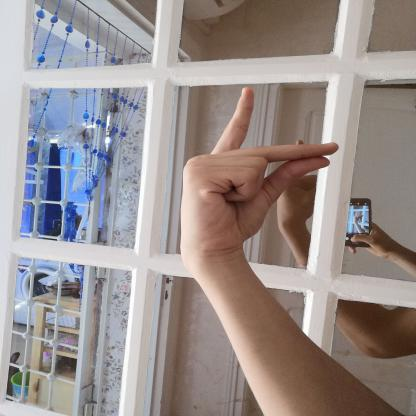TAA: (166, 79, 351, 267)
